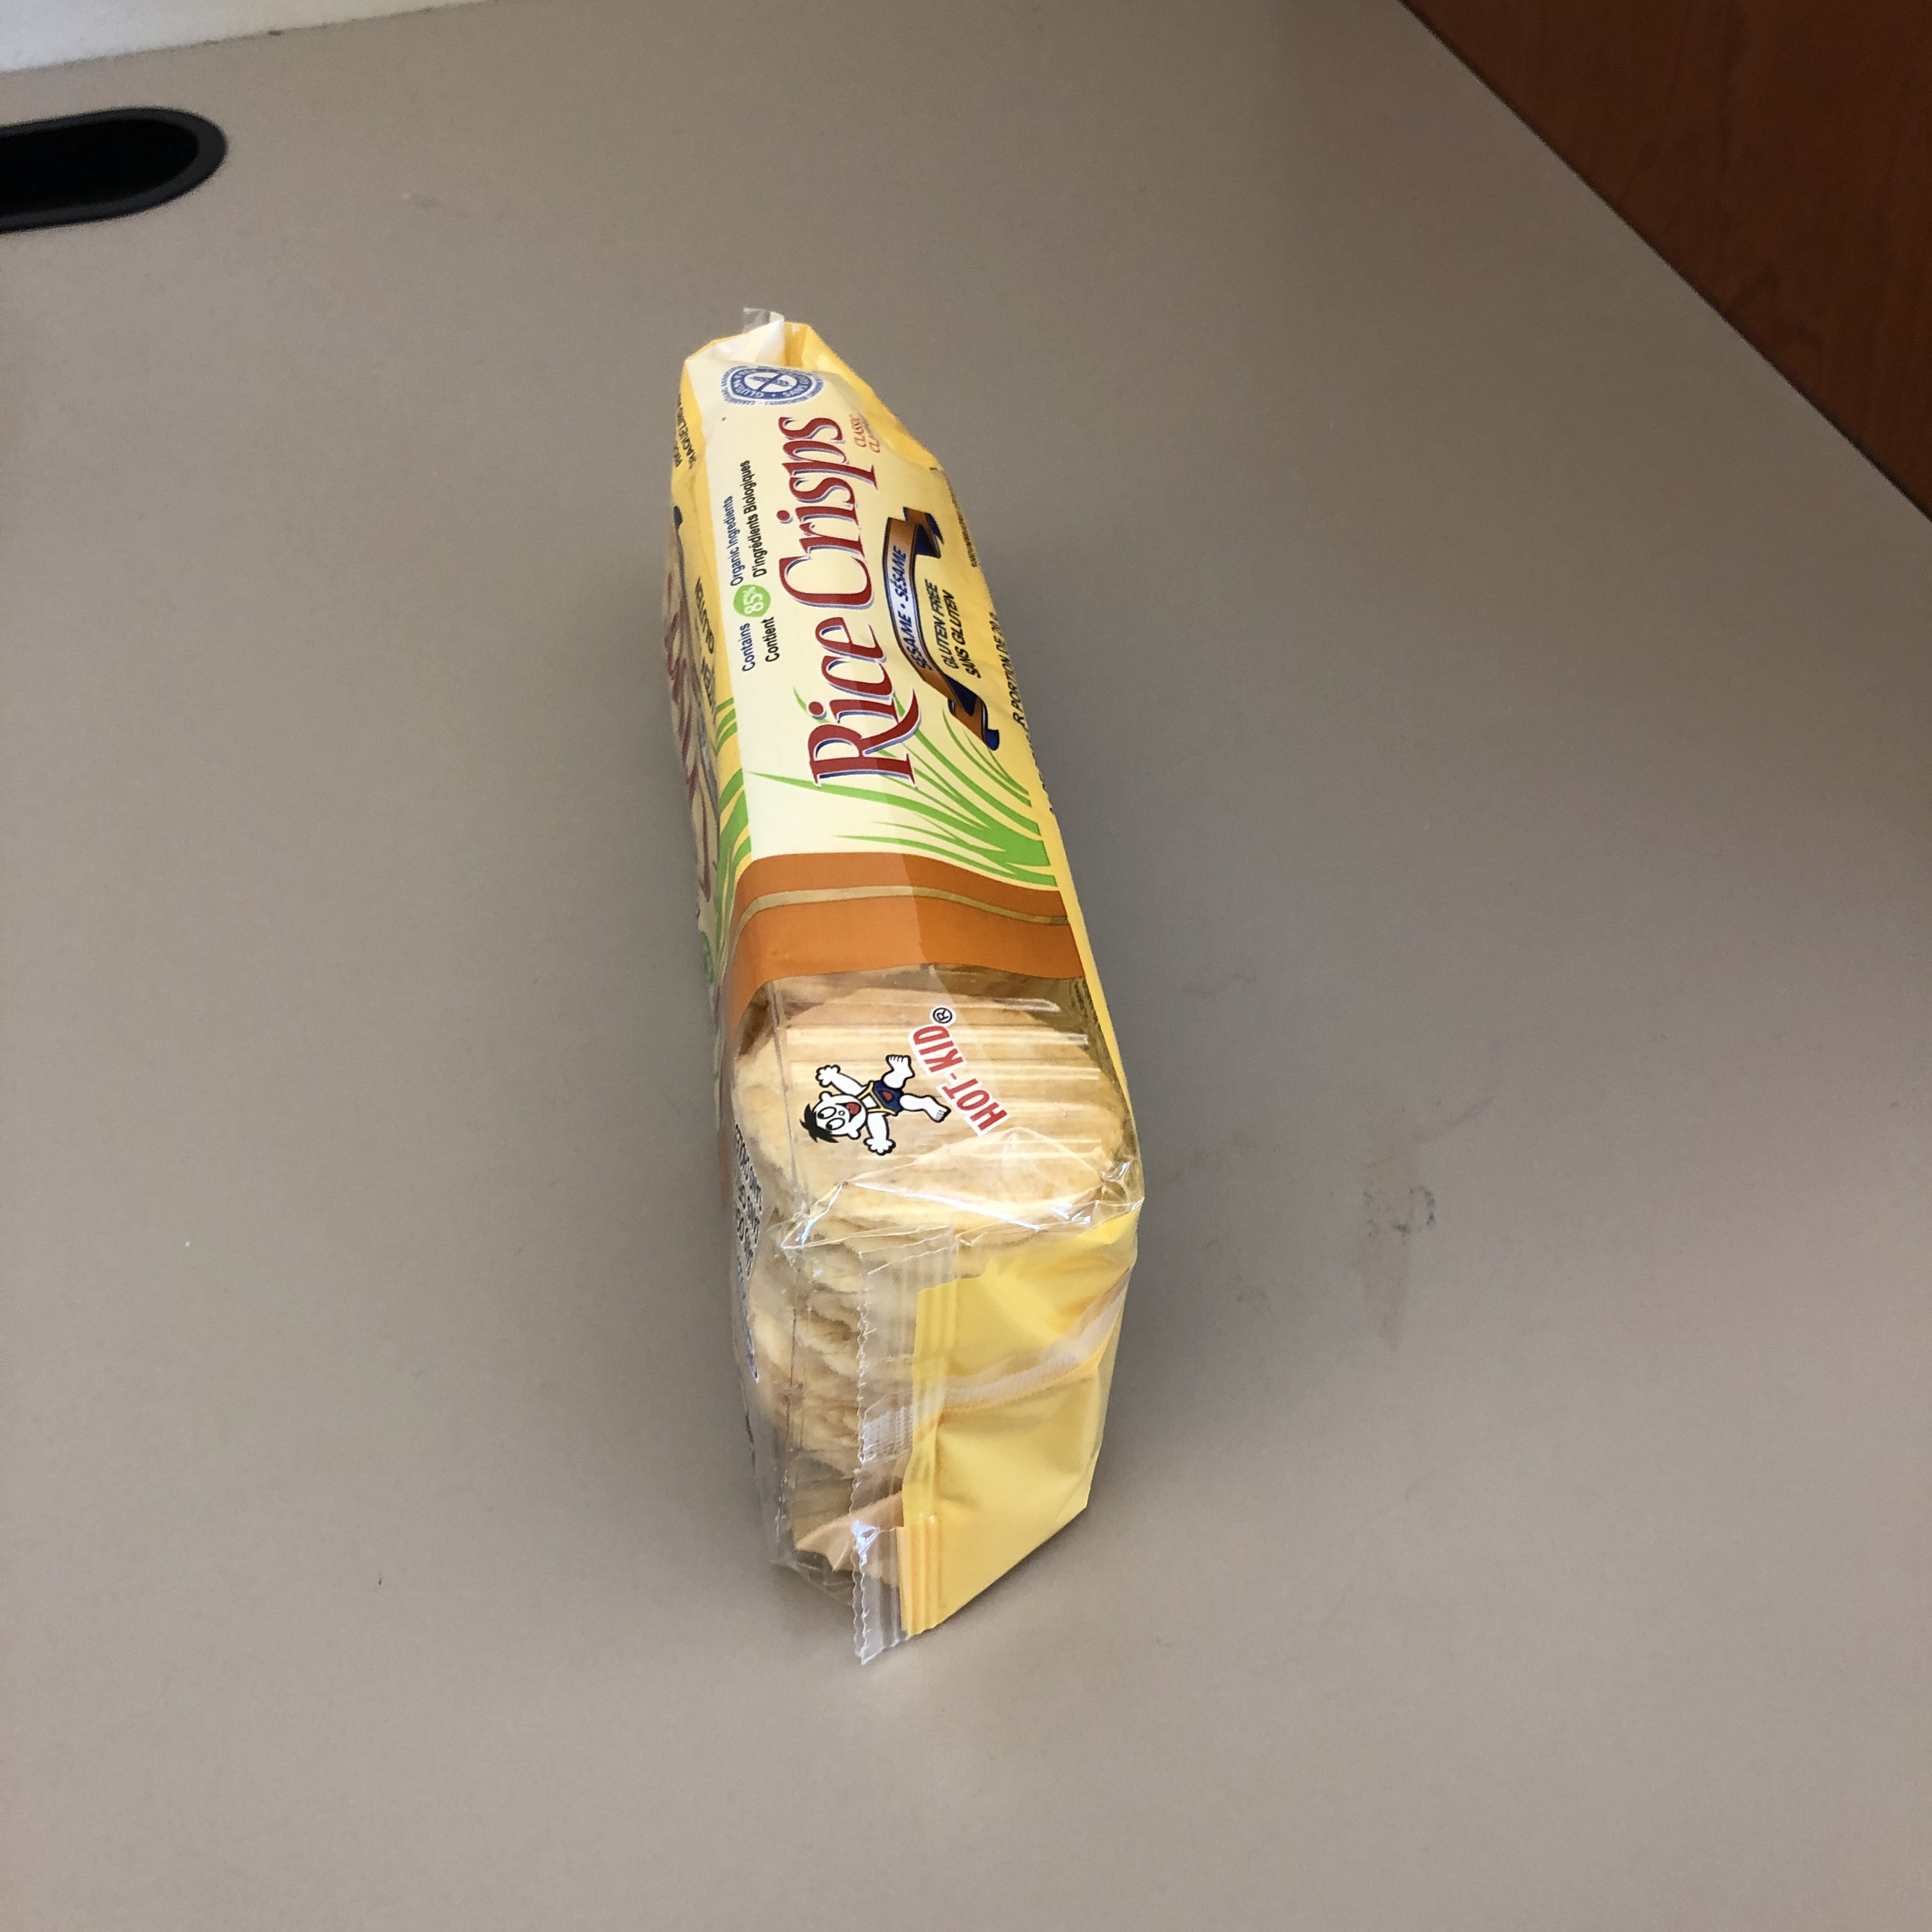hot_kid_rice_crisps_sesame: (352, 825, 1609, 1258)
